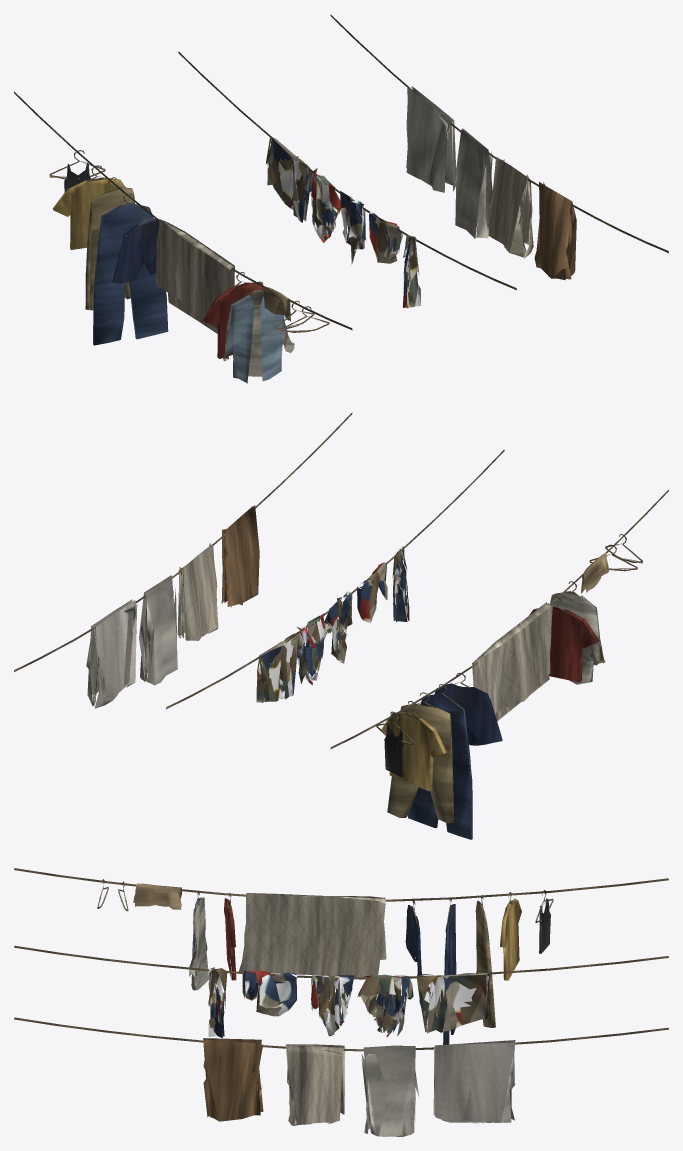
Rendered from bucato.glb.
The picture shows the model from 3 angles, top to bottom: view 1: azimuth 30°, elevation 25°; view 2: azimuth 150°, elevation 25°; view 3: azimuth 270°, elevation 25°; orthographic projection. The views are drawn at different scales.
Size of the model in its own units: 21.68 by 9.92 by 34.46.
5 materials, 5 textured.
